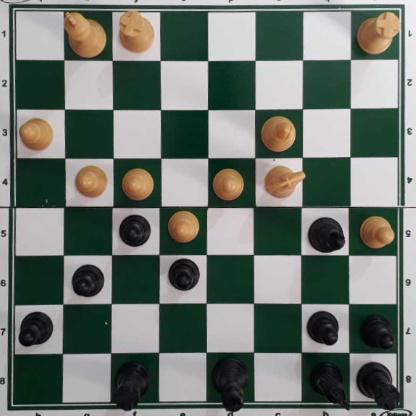black-bishop: (308, 217, 345, 255)
black-king: (212, 355, 250, 413)
black-knight: (310, 365, 351, 410)
black-pawn: (359, 315, 398, 353), (18, 311, 54, 349), (305, 311, 342, 346), (167, 260, 201, 295), (72, 265, 105, 300), (119, 215, 151, 250)
black-rook: (357, 363, 402, 415), (112, 363, 152, 412)
white-bishop: (262, 117, 297, 154)
white-king: (64, 10, 107, 60)
white-knight: (264, 164, 304, 201)
white-pawn: (19, 117, 56, 154), (75, 165, 109, 201), (167, 212, 203, 245), (359, 217, 395, 250), (122, 169, 155, 203), (213, 170, 246, 202)
white-rook: (357, 13, 402, 56), (117, 12, 155, 55)
